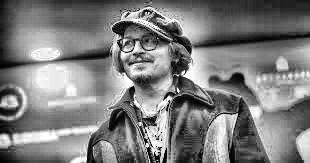happy: (106, 13, 194, 116)
